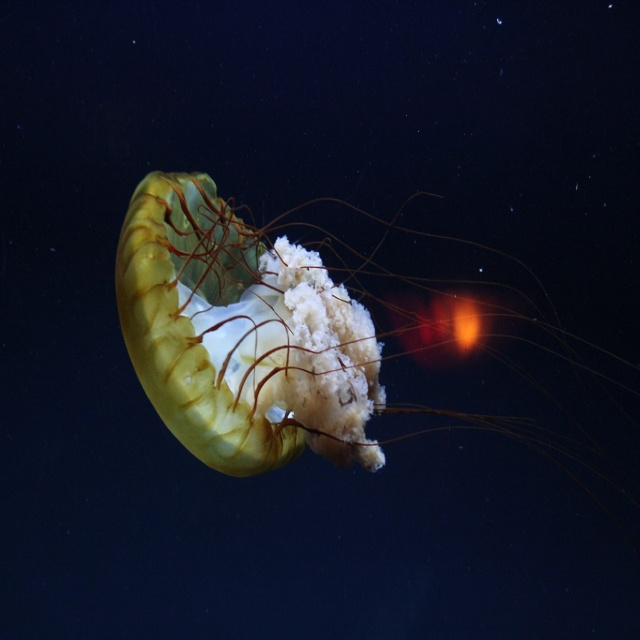Jellyfish: (115, 169, 640, 553)
